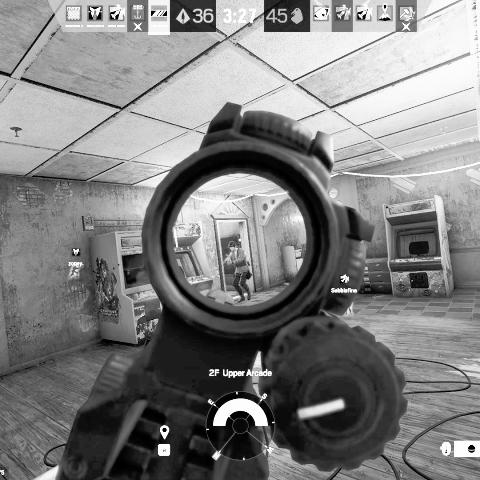Character: (224, 240, 252, 304)
Friend_label: (332, 274, 357, 294), (68, 248, 85, 267)
Head: (228, 241, 236, 252)
